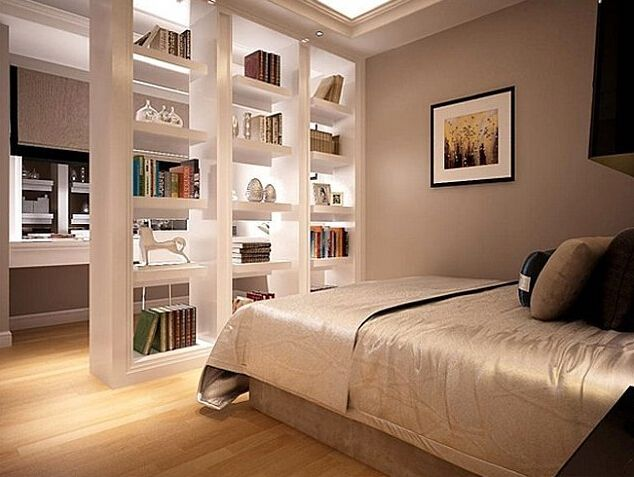床: (211, 279, 634, 467)
枕头: (508, 235, 619, 317)
灯: (313, 30, 328, 40)
